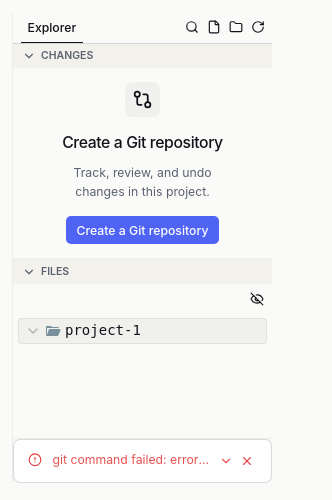
ContextWorkbench › contains long Git errors in a dismissible alert
This screenshot has width=332, height=500.
Click the button named "Close": (246,461) [236,451,257,472]
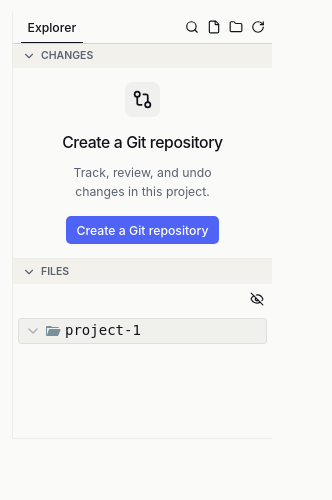
Expected: the message is gone
